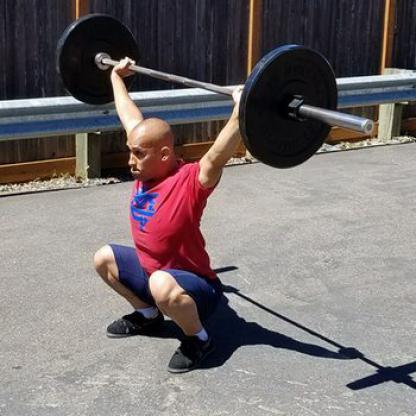barbell: (57, 14, 373, 168)
